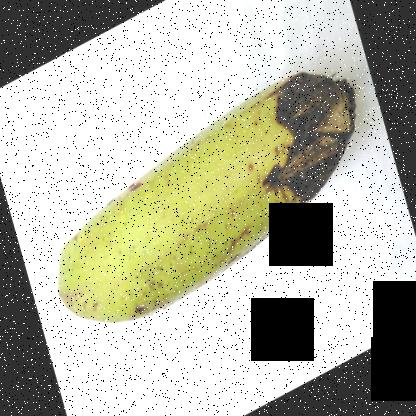rotten: (242, 47, 359, 221)
unripe: (51, 87, 267, 352)
